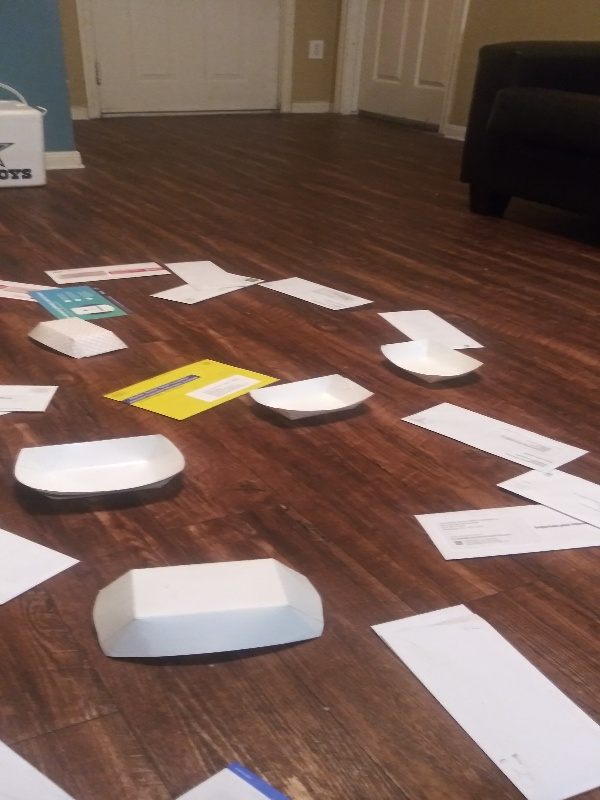plate: (85, 556, 328, 664), (10, 430, 188, 503), (243, 368, 378, 430), (373, 336, 486, 392), (26, 312, 134, 363)
